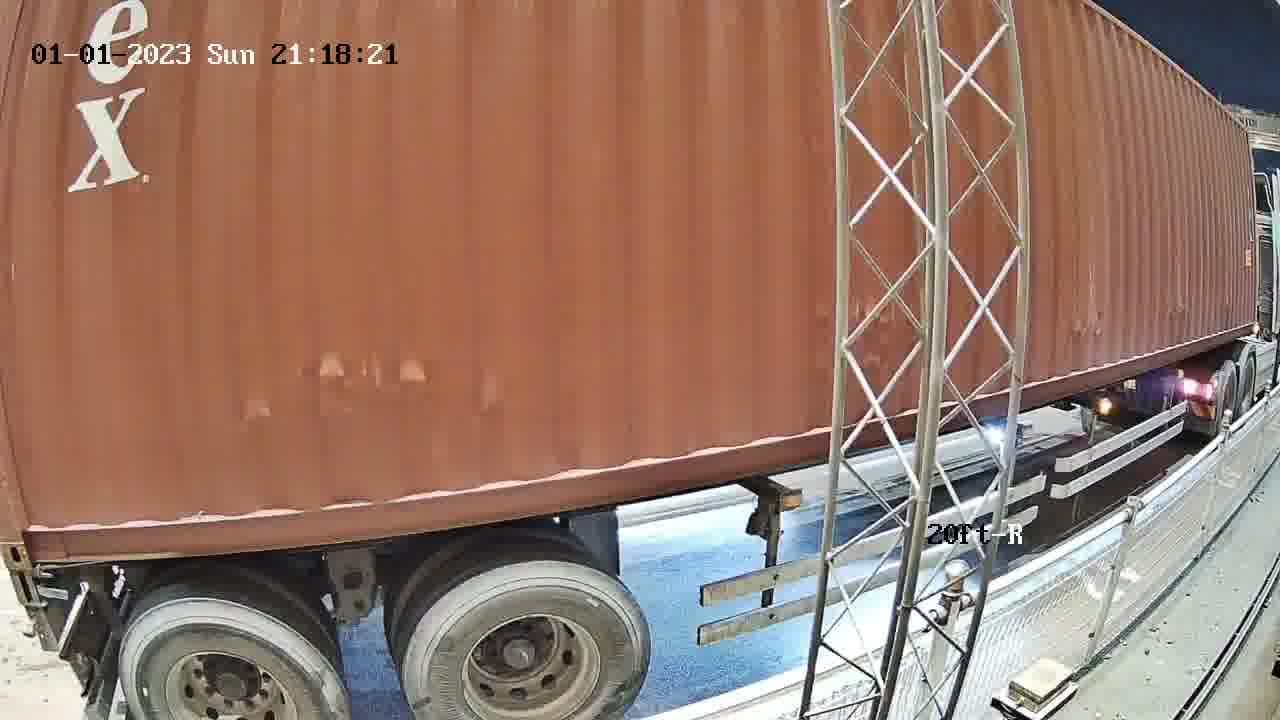Cone: (14, 567, 71, 607)
Hole_L: (0, 503, 75, 572)
Tire: (404, 558, 650, 719), (119, 601, 349, 718)
